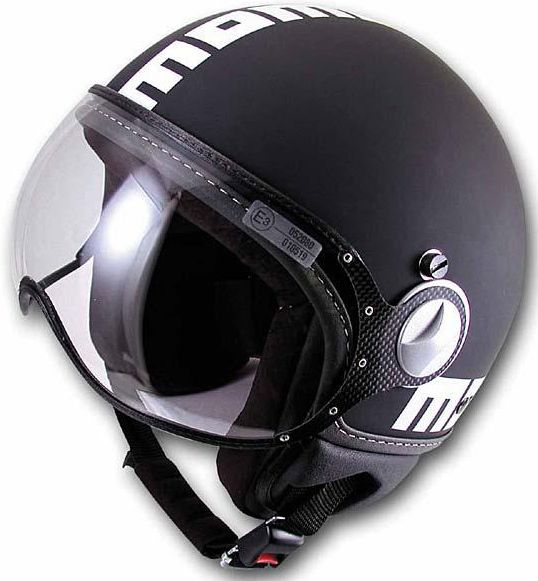with_helmet: (6, 3, 537, 574)
